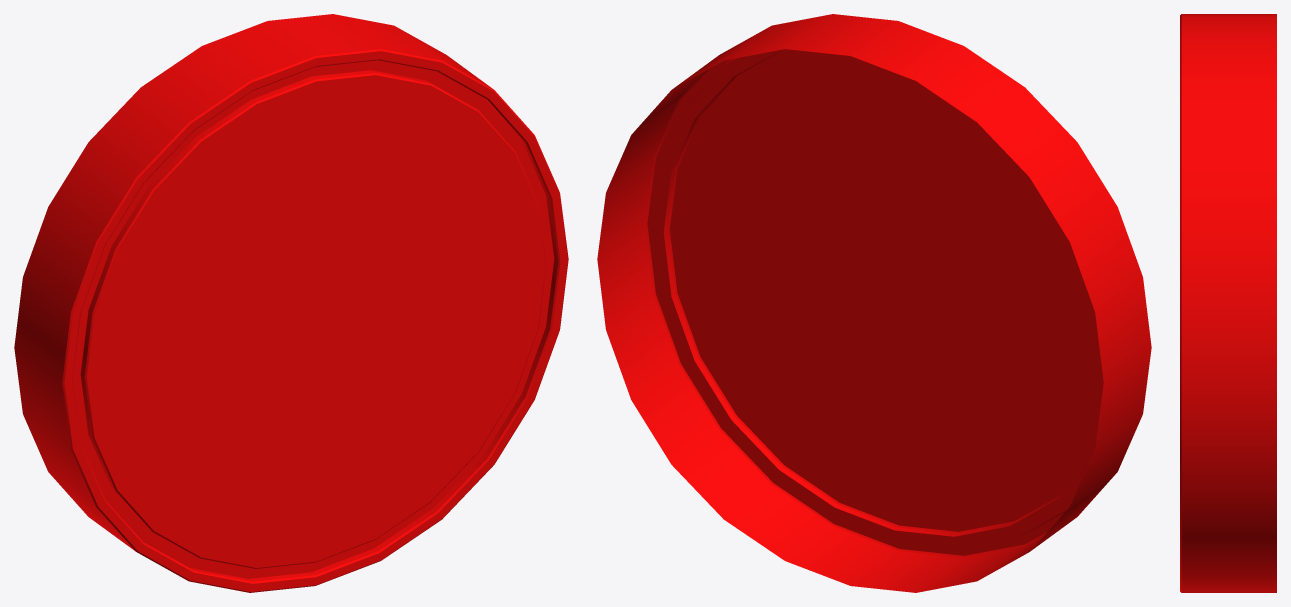
The model's file is Sign_Cylinder_01_001.fbx.
The picture shows the model from 3 angles, left to right: view 1: azimuth 30°, elevation 25°; view 2: azimuth 150°, elevation 25°; view 3: azimuth 270°, elevation 25°; orthographic projection.
Visible parts, largest first — view 1: Sign_Cylinder_01_001; view 2: Sign_Cylinder_01_001; view 3: Sign_Cylinder_01_001.
Part boxes in pixels (x1,y1,x2,y2): Sign_Cylinder_01_001: (14,14,568,592); Sign_Cylinder_01_001: (597,14,1151,592); Sign_Cylinder_01_001: (1180,14,1276,592).
Size of the model in its own units: 90 by 90 by 15.
